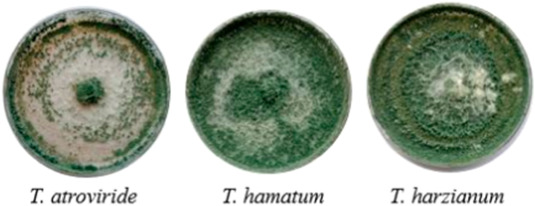Trichoderma: (380, 44, 518, 137), (207, 36, 333, 136), (29, 51, 152, 143)
